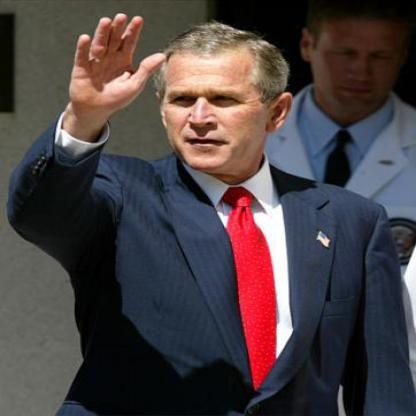face: (161, 28, 275, 177), (312, 1, 406, 119)
